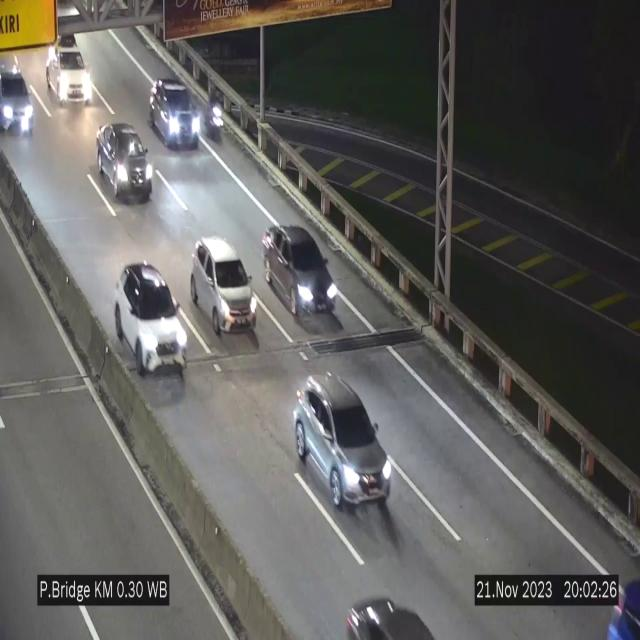Car: (294, 376, 392, 508), (114, 263, 188, 375), (263, 223, 337, 326), (191, 236, 257, 336), (339, 586, 438, 640), (97, 124, 152, 201), (45, 34, 93, 110), (149, 78, 201, 146), (0, 56, 40, 135)
Motorcycle: (203, 82, 224, 146)
